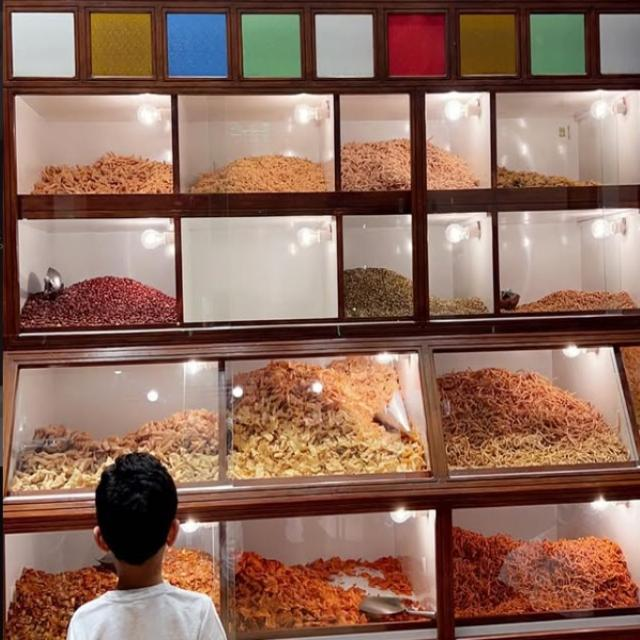Mattai: (8, 92, 330, 202), (434, 348, 640, 485), (442, 511, 640, 628), (227, 366, 425, 474), (228, 525, 429, 630), (8, 376, 111, 494), (148, 392, 226, 477)
